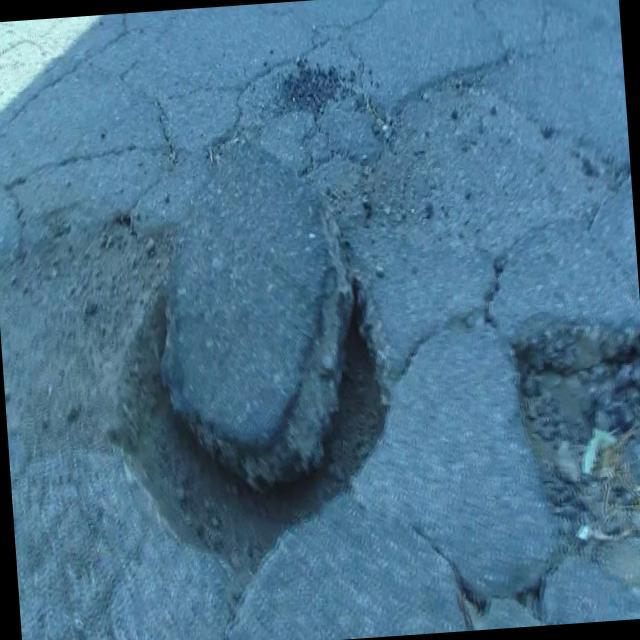Pothole: (108, 180, 404, 620), (509, 296, 640, 585)
